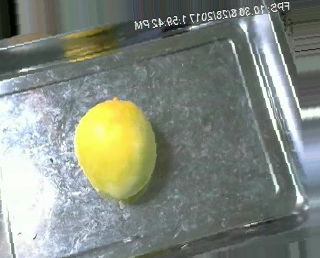Mango: (72, 93, 161, 203)
